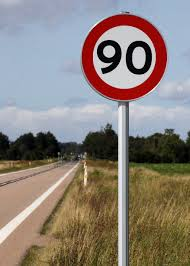Speed_limit_90km: (81, 13, 167, 100)
